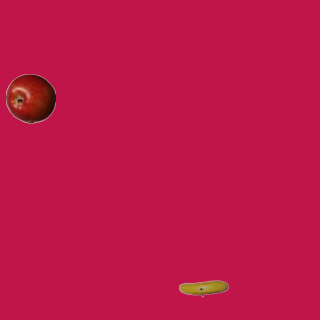Apple Braeburn: (5, 73, 55, 123)
Banana: (178, 263, 228, 313)
